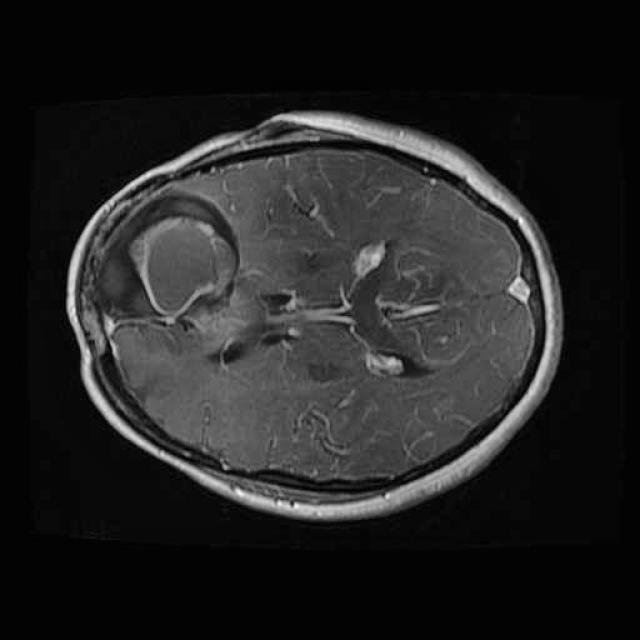Tumor: (112, 205, 246, 327)
